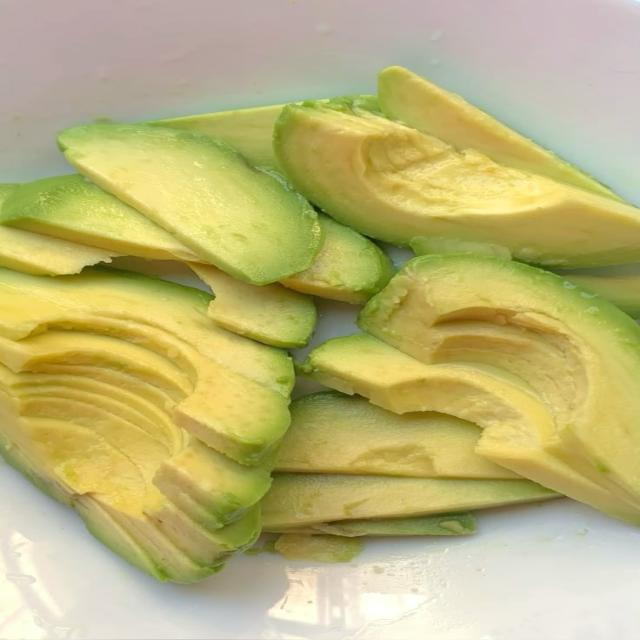avocado: (304, 254, 639, 523), (0, 270, 288, 582), (301, 325, 639, 522), (274, 103, 639, 267), (0, 269, 293, 464), (58, 125, 321, 284), (0, 268, 294, 398), (378, 67, 620, 199), (277, 393, 518, 478), (0, 175, 199, 260), (261, 474, 558, 530), (190, 264, 316, 347), (280, 214, 393, 304), (147, 104, 285, 168), (148, 104, 284, 167), (150, 105, 284, 168), (0, 226, 118, 275), (271, 513, 475, 537), (562, 273, 639, 318), (274, 533, 363, 563), (409, 237, 511, 259), (410, 237, 511, 259)
